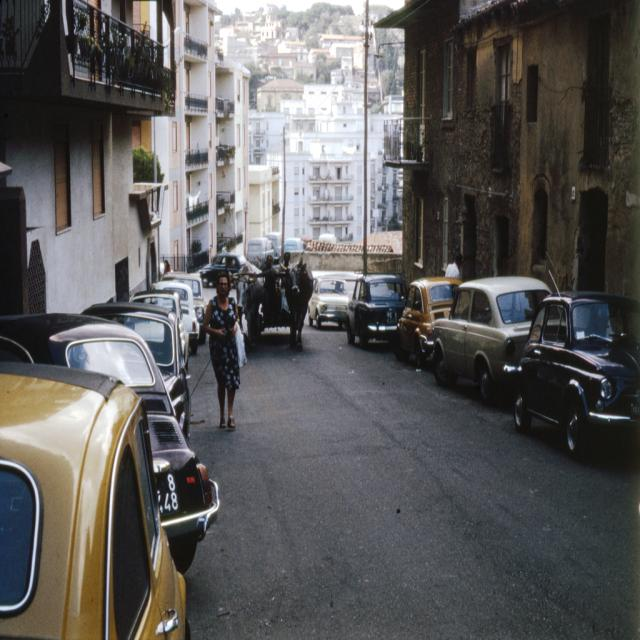car: (504, 278, 628, 456)
